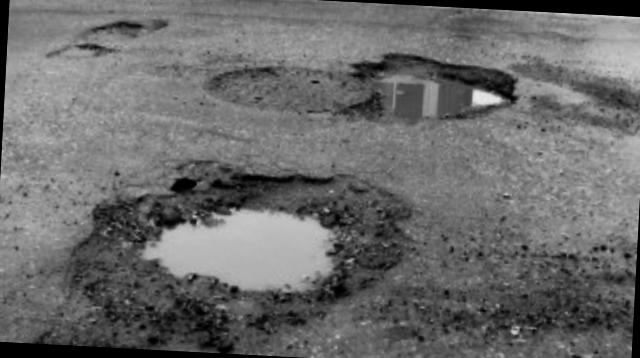Pothole: (56, 164, 418, 344), (227, 23, 536, 145), (28, 4, 154, 76)
